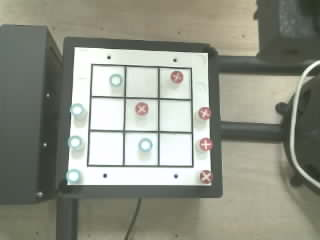blue circle: (68, 136, 82, 150), (66, 169, 80, 183), (70, 103, 84, 116), (139, 138, 152, 151), (109, 74, 122, 86)
board: (65, 46, 214, 187)
cells: (89, 132, 122, 165), (125, 133, 157, 165), (90, 98, 123, 129), (160, 134, 192, 165), (125, 99, 157, 130), (160, 100, 191, 131), (92, 66, 124, 96), (126, 67, 157, 97), (160, 68, 190, 98)
grid: (87, 64, 193, 167)
red cross: (171, 71, 184, 84), (135, 102, 148, 115), (198, 107, 211, 119), (200, 170, 212, 183), (199, 138, 212, 150)
